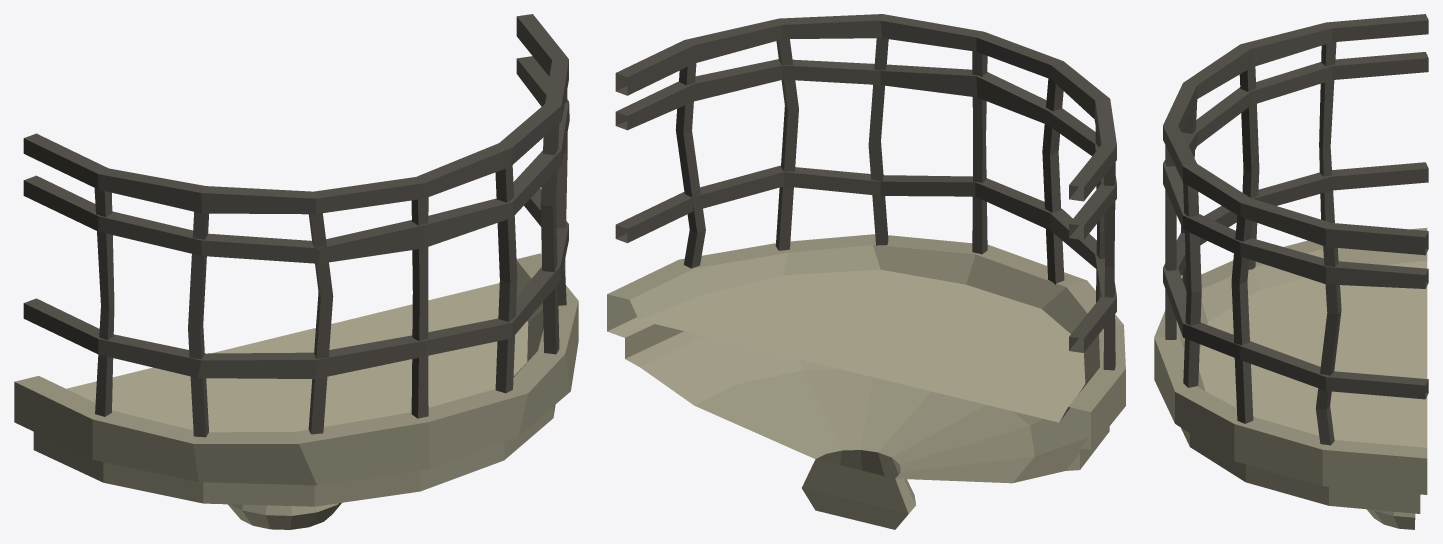
File: Balcony_4.fbx
3 views of the same model, side by side, from view 1: azimuth 30°, elevation 25°; view 2: azimuth 150°, elevation 25°; view 3: azimuth 270°, elevation 25° (orthographic). The views are drawn at different scales.
Parts seen in each view (by area): view 1: Balcony_4; view 2: Balcony_4; view 3: Balcony_4.
Part boxes in pixels (x1,y1,x2,y2): Balcony_4: (14, 14, 578, 529); Balcony_4: (607, 14, 1125, 529); Balcony_4: (1154, 14, 1428, 529).
Size of the model in its own units: 188 by 148 by 94.61.
